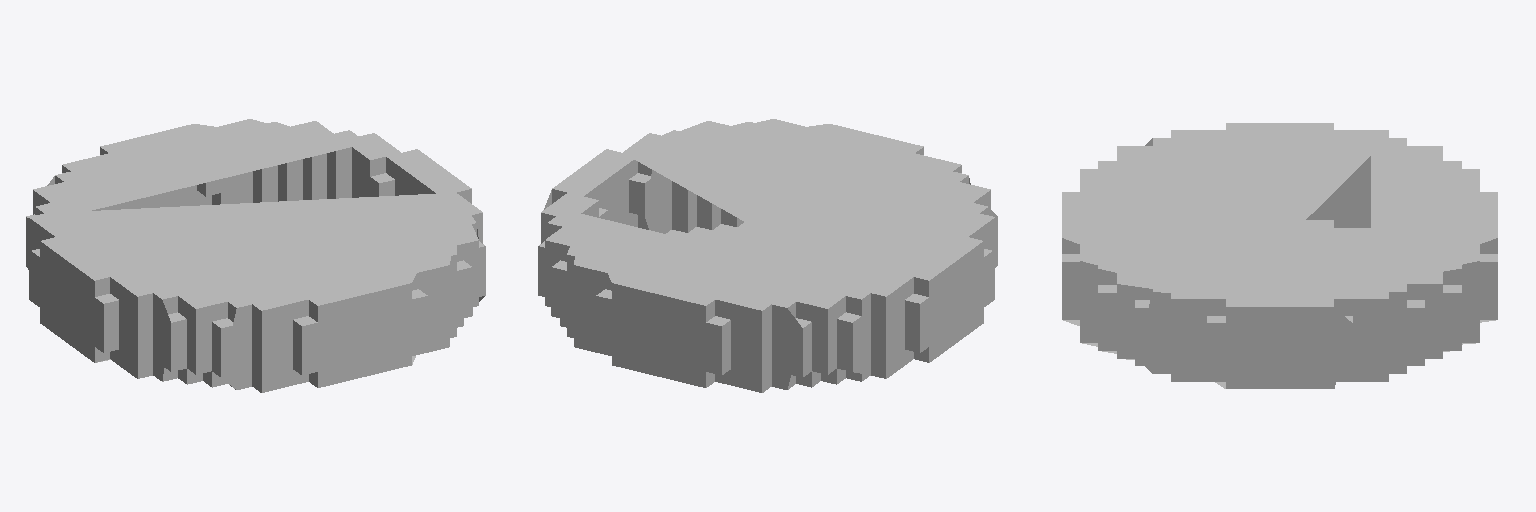
The model's file is Ring_Gold.obj.
3 renders of one model, left to right at view 1: azimuth 30°, elevation 25°; view 2: azimuth 150°, elevation 25°; view 3: azimuth 270°, elevation 25°, orthographic.
Parts seen in each view (by area): view 1: Ring_Gold; view 2: Ring_Gold; view 3: Ring_Gold.
Boxes of the visible parts, box(x1,y1,x2,y2) form: Ring_Gold: box(26, 119, 485, 392); Ring_Gold: box(538, 119, 997, 392); Ring_Gold: box(1062, 123, 1497, 388).
Size of the model in its own units: 0.24 by 0.05 by 0.24.